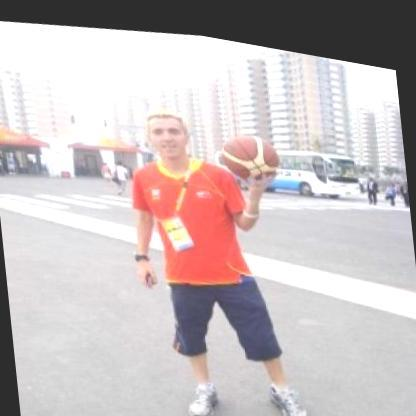basketball: (215, 112, 288, 182)
